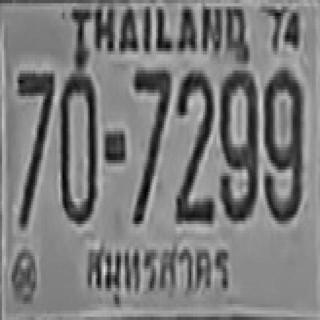N00: (58, 70, 96, 221)
N02: (174, 67, 213, 221)
N07: (16, 70, 53, 224), (133, 69, 170, 222), (133, 67, 170, 182)
N09: (262, 67, 302, 221), (218, 67, 256, 218)
P58: (80, 233, 236, 310)
